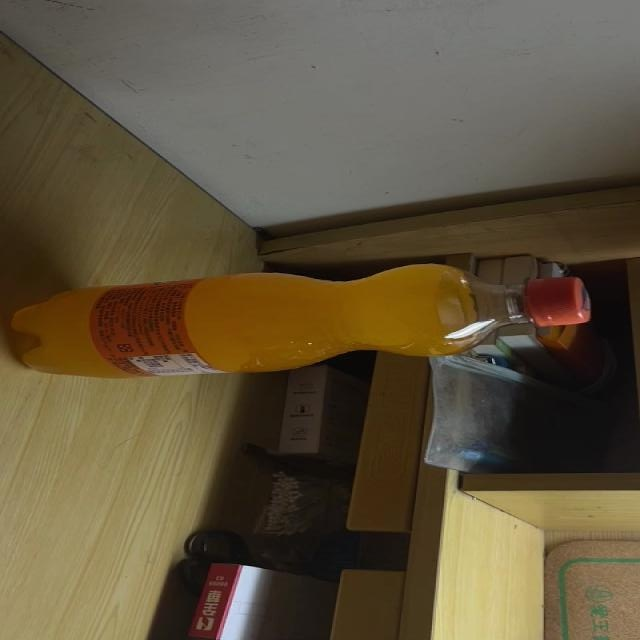Fanta: (9, 262, 592, 378)
